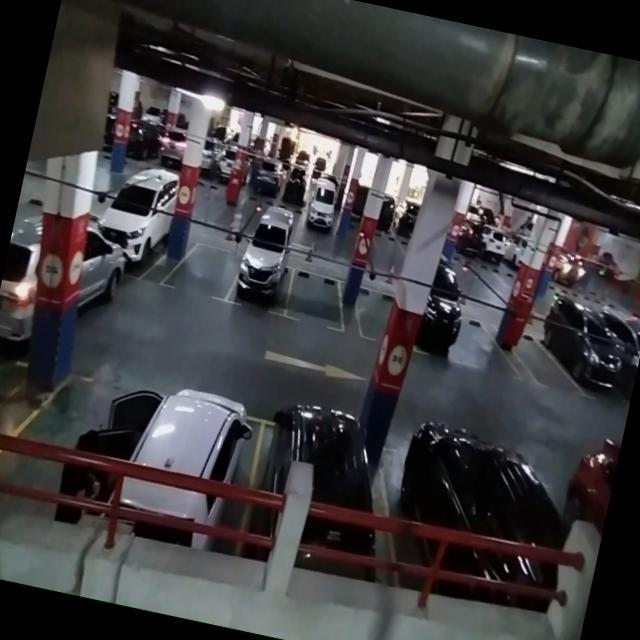empty: (0, 360, 138, 531), (282, 264, 356, 334), (162, 237, 239, 303), (348, 284, 397, 345)
occupied: (108, 390, 266, 558), (234, 415, 387, 582), (100, 177, 178, 285), (227, 219, 302, 318)
